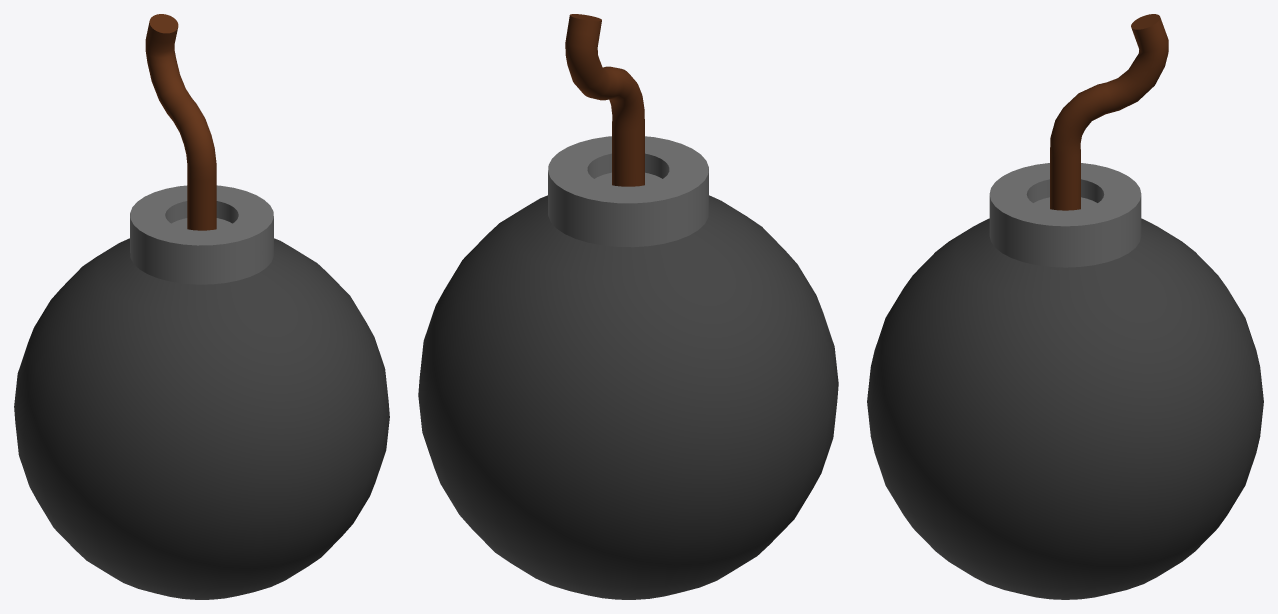
Rendered from Bomb.fbx.
3 renders of one model, left to right at view 1: azimuth 30°, elevation 25°; view 2: azimuth 150°, elevation 25°; view 3: azimuth 270°, elevation 25°, orthographic. The views are drawn at different scales.
Parts seen in each view (by area): view 1: Sphere; view 2: Sphere; view 3: Sphere.
Boxes of the visible parts, bbox=[...] form: Sphere: bbox=[14, 14, 389, 599]; Sphere: bbox=[418, 14, 838, 599]; Sphere: bbox=[867, 14, 1263, 599].
Size of the model in its own units: 200 by 314 by 200.
